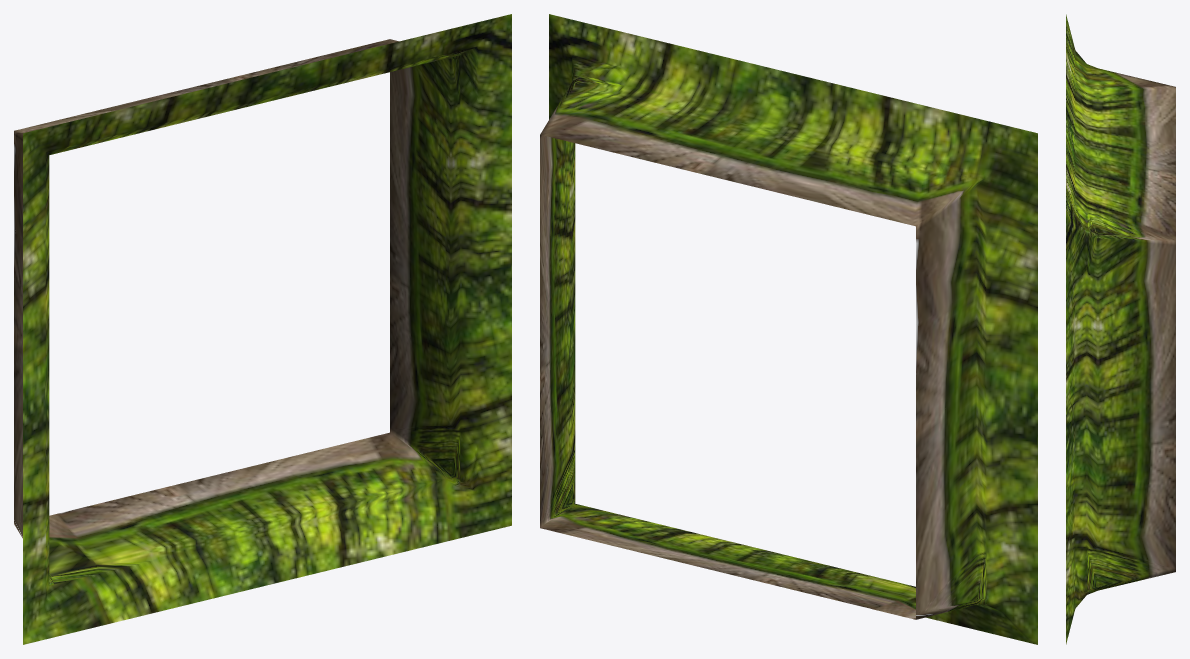
The model's file is forest.obj.
The picture shows the model from 3 angles, left to right: view 1: azimuth 30°, elevation 25°; view 2: azimuth 150°, elevation 25°; view 3: azimuth 270°, elevation 25°; orthographic projection. The views are drawn at different scales.
Parts seen in each view (by area): view 1: Plane; view 2: Plane; view 3: Plane.
Part boxes in pixels (x1=…): Plane: x1=14, y1=14, x2=511, y2=644; Plane: x1=540, y1=14, x2=1037, y2=644; Plane: x1=1066, y1=14, x2=1175, y2=644.
Size of the model in its own units: 41.61 by 41.61 by 9.63.
